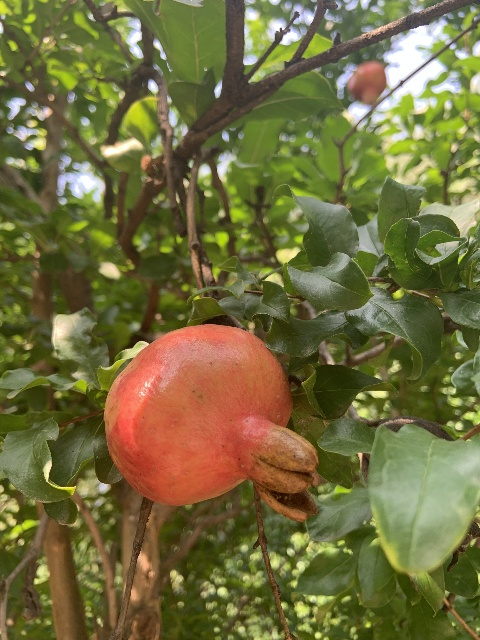ripe: (103, 323, 320, 521), (345, 62, 386, 105)
